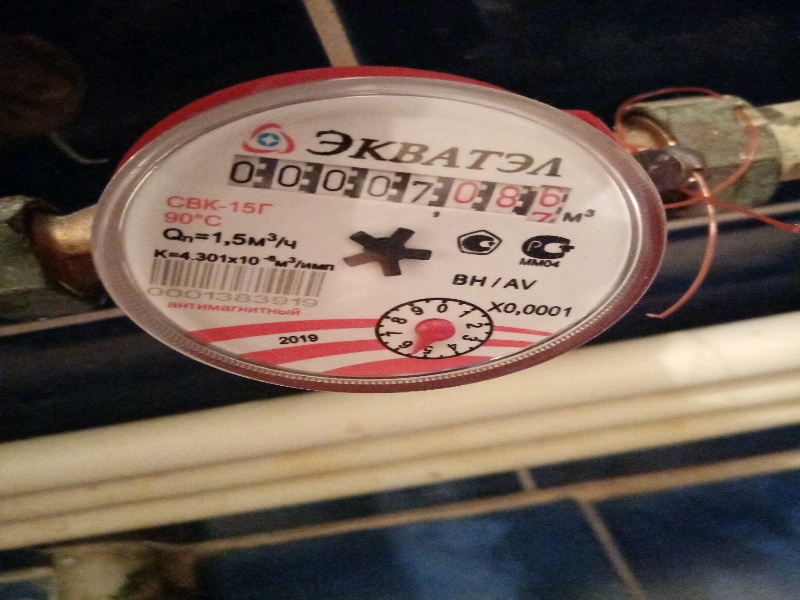meter: (223, 154, 559, 228)
